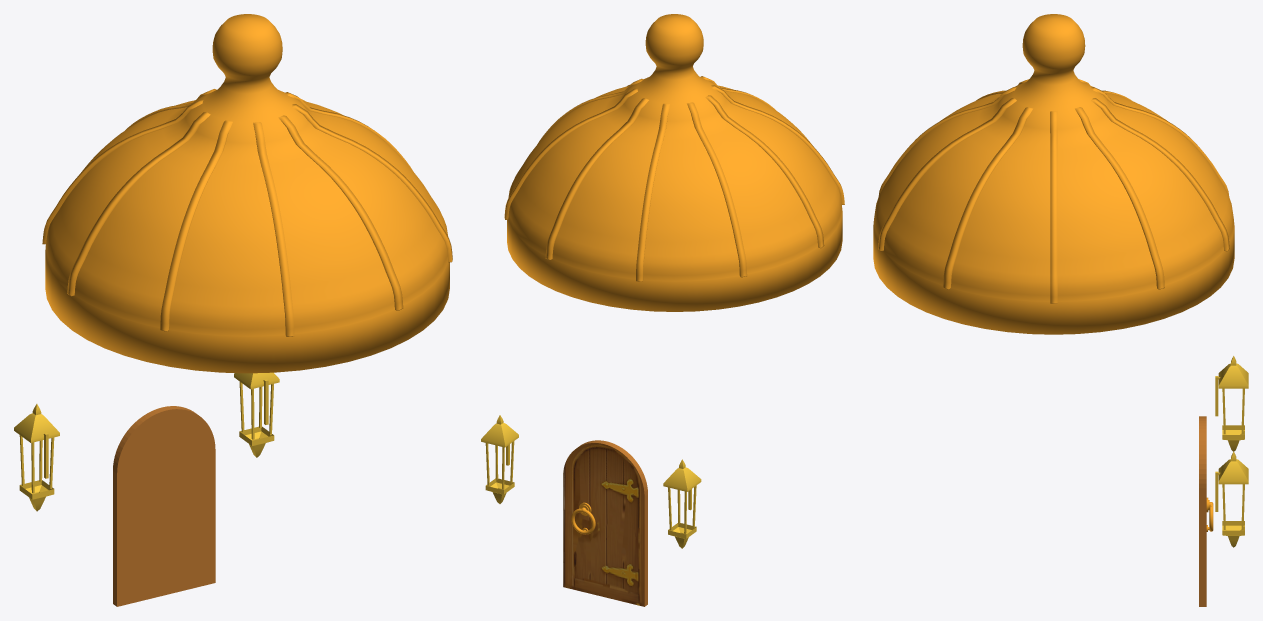
The model's file is HaloDomeHouse_09_deco.glb.
3 renders of one model, left to right at view 1: azimuth 30°, elevation 25°; view 2: azimuth 150°, elevation 25°; view 3: azimuth 270°, elevation 25°, orthographic. The views are drawn at different scales.
Parts seen in each view (by area): view 1: HaloDomeHouse_09_Dome, HaloDomeHouse_09_Leaf, HaloDomeHouse_09_DomeRibs, HaloDomeHouse_09_Lantern0, HaloDomeHouse_09_Lantern1; view 2: HaloDomeHouse_09_Dome, HaloDomeHouse_09_Leaf, HaloDomeHouse_09_DomeRibs, HaloDomeHouse_09_Lantern0, HaloDomeHouse_09_Lantern1; view 3: HaloDomeHouse_09_Dome, HaloDomeHouse_09_DomeRibs, HaloDomeHouse_09_Leaf, HaloDomeHouse_09_Lantern1, HaloDomeHouse_09_Lantern0.
Part boxes in pixels (bbox=[...]): HaloDomeHouse_09_Dome: bbox=[45, 14, 449, 373]; HaloDomeHouse_09_Leaf: bbox=[113, 406, 215, 606]; HaloDomeHouse_09_DomeRibs: bbox=[42, 89, 452, 336]; HaloDomeHouse_09_Lantern0: bbox=[14, 404, 59, 511]; HaloDomeHouse_09_Lantern1: bbox=[234, 372, 279, 457]; HaloDomeHouse_09_Dome: bbox=[507, 14, 842, 311]; HaloDomeHouse_09_Leaf: bbox=[563, 440, 647, 606]; HaloDomeHouse_09_DomeRibs: bbox=[504, 76, 844, 281]; HaloDomeHouse_09_Lantern0: bbox=[663, 459, 701, 548]; HaloDomeHouse_09_Lantern1: bbox=[481, 415, 518, 503]; HaloDomeHouse_09_Dome: bbox=[873, 14, 1234, 334]; HaloDomeHouse_09_DomeRibs: bbox=[878, 79, 1229, 303]; HaloDomeHouse_09_Leaf: bbox=[1199, 416, 1206, 606]; HaloDomeHouse_09_Lantern1: bbox=[1215, 451, 1248, 547]; HaloDomeHouse_09_Lantern0: bbox=[1215, 356, 1248, 451].
Size of the model in its own units: 15.59 by 26.48 by 15.91.
Materials: 4 (1 with a texture image).
